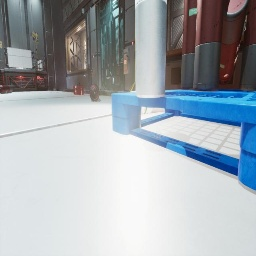0: (135, 0, 167, 98), (129, 91, 165, 114), (16, 67, 27, 69)
EmergencyPhone ,: (91, 68, 93, 76), (0, 41, 2, 48)
FirstAidBox ,: (73, 82, 84, 95)
NitrogenTank ,: (193, 0, 225, 92), (219, 0, 249, 86), (180, 0, 198, 90), (239, 0, 256, 91), (90, 84, 100, 101), (0, 85, 13, 94)
SafetySwitchPanel ,: (123, 48, 130, 74)
